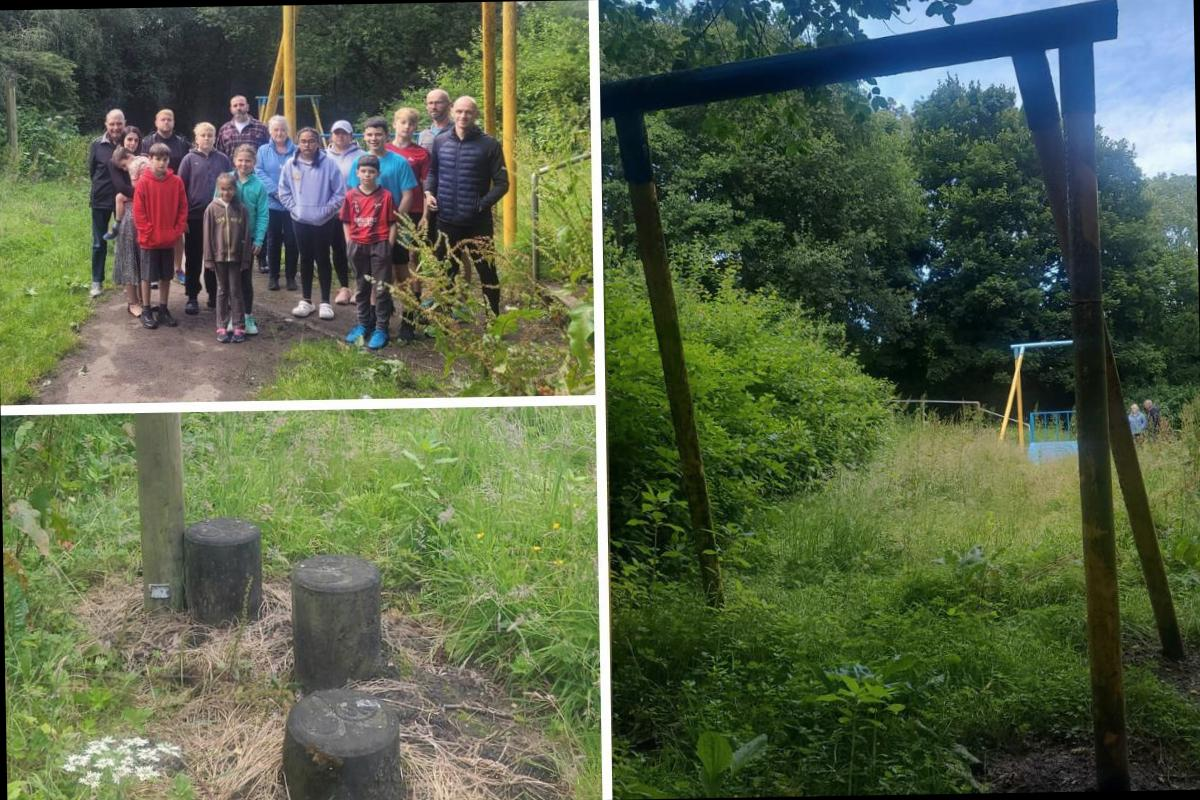overgrown grass: (609, 403, 1087, 799), (182, 412, 603, 799), (1, 410, 206, 800), (891, 403, 1090, 739), (1134, 398, 1200, 641)
